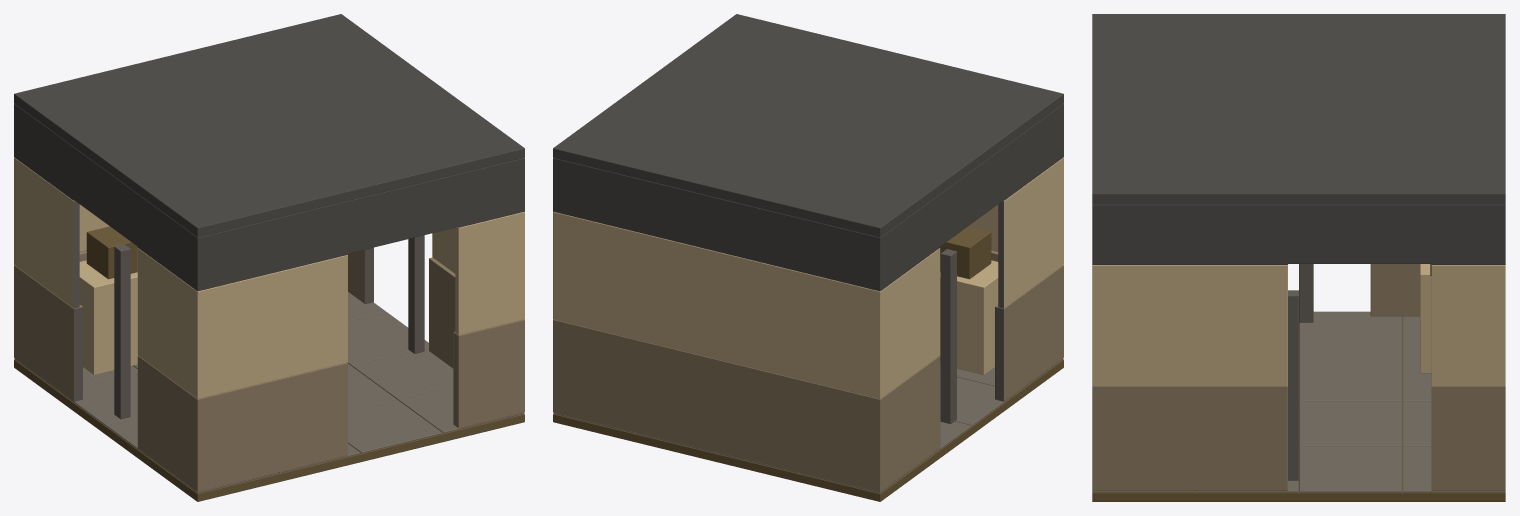
The model's file is gen-archive.glb.
3 renders of one model, left to right at view 1: azimuth 30°, elevation 25°; view 2: azimuth 150°, elevation 25°; view 3: azimuth 270°, elevation 25°, orthographic. The views are drawn at different scales.
Visible parts, largest first — view 1: THE ARCHIVE; view 2: THE ARCHIVE; view 3: THE ARCHIVE.
Boxes of the visible parts, box(x1,y1,x2,y2) form: THE ARCHIVE: box(14, 14, 524, 501); THE ARCHIVE: box(553, 14, 1063, 501); THE ARCHIVE: box(1092, 14, 1505, 501).
Bounding box in the file's own units: 3.5 × 2.8 × 3.4.
